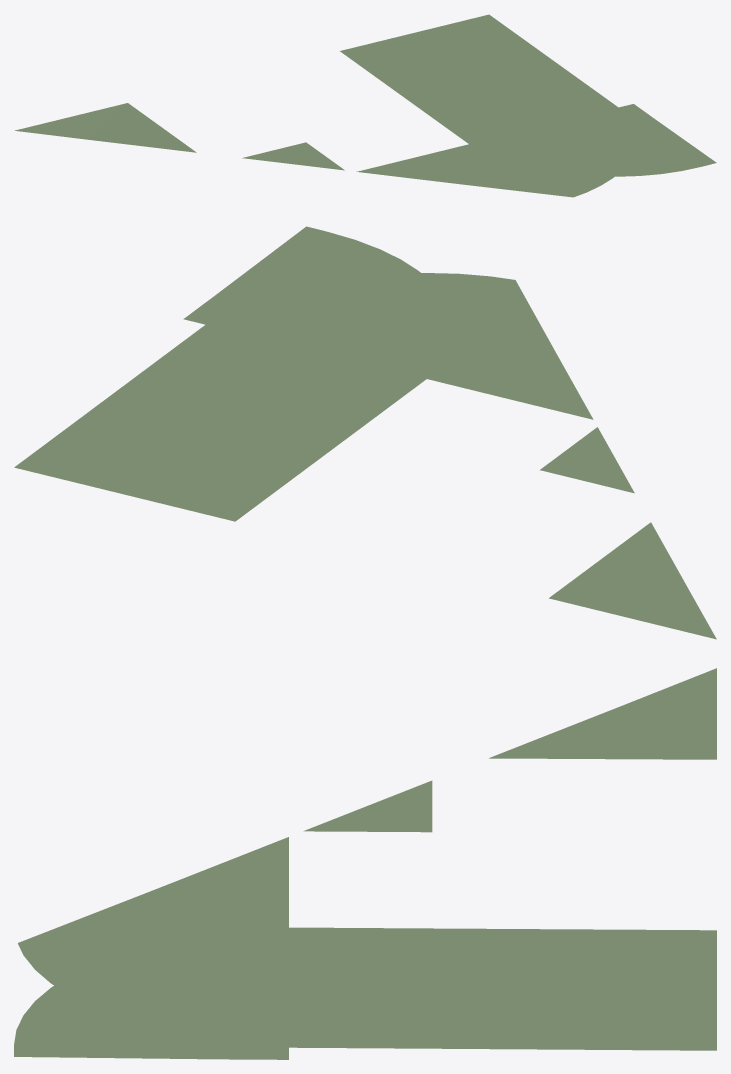
File: SM_MPRR_CampusGreen_-2_-2.fbx
The picture shows the model from 3 angles, top to bottom: view 1: azimuth 30°, elevation 25°; view 2: azimuth 150°, elevation 25°; view 3: azimuth 270°, elevation 25°; orthographic projection. The views are drawn at different scales.
Parts seen in each view (by area): view 1: SM_MPRR_CampusGreen_-2_-2; view 2: SM_MPRR_CampusGreen_-2_-2; view 3: SM_MPRR_CampusGreen_-2_-2.
Part boxes in pixels (box(x1,y1,x2,y2)): SM_MPRR_CampusGreen_-2_-2: box(15, 14, 716, 197); SM_MPRR_CampusGreen_-2_-2: box(14, 226, 716, 639); SM_MPRR_CampusGreen_-2_-2: box(14, 668, 716, 1059).
Bounding box in the file's own units: 1632 × 1227 × 12.4.
